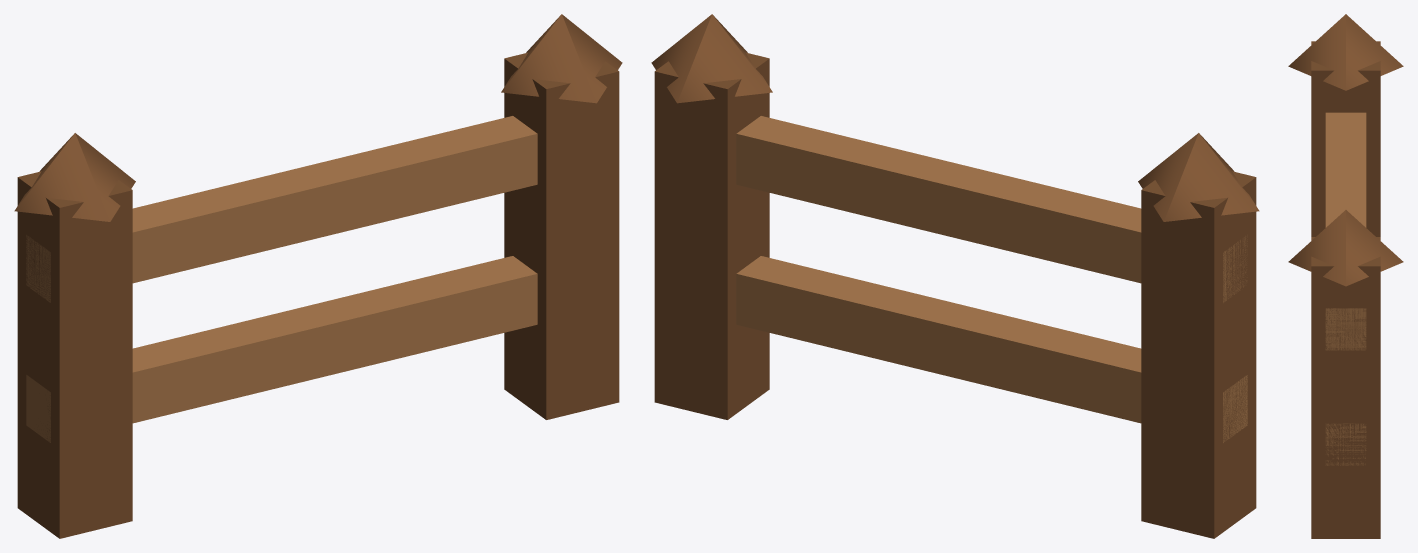
File: scene__fence.glb
The picture shows the model from 3 angles, left to right: view 1: azimuth 30°, elevation 25°; view 2: azimuth 150°, elevation 25°; view 3: azimuth 270°, elevation 25°; orthographic projection. The views are drawn at different scales.
Bounding box in the file's own units: 1 × 0.6 × 0.2.
